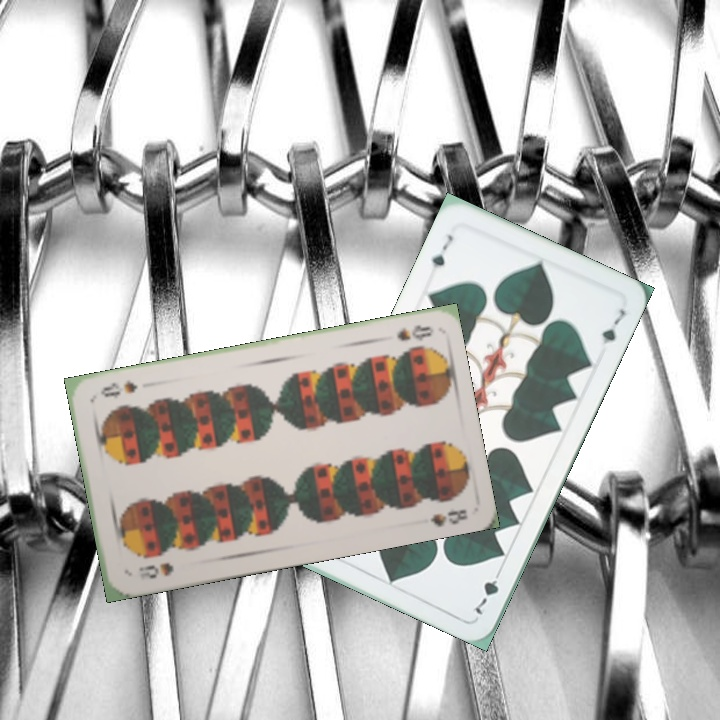G7: (470, 564, 505, 618), (427, 230, 456, 271)
S8: (392, 321, 436, 344), (135, 558, 176, 582)
